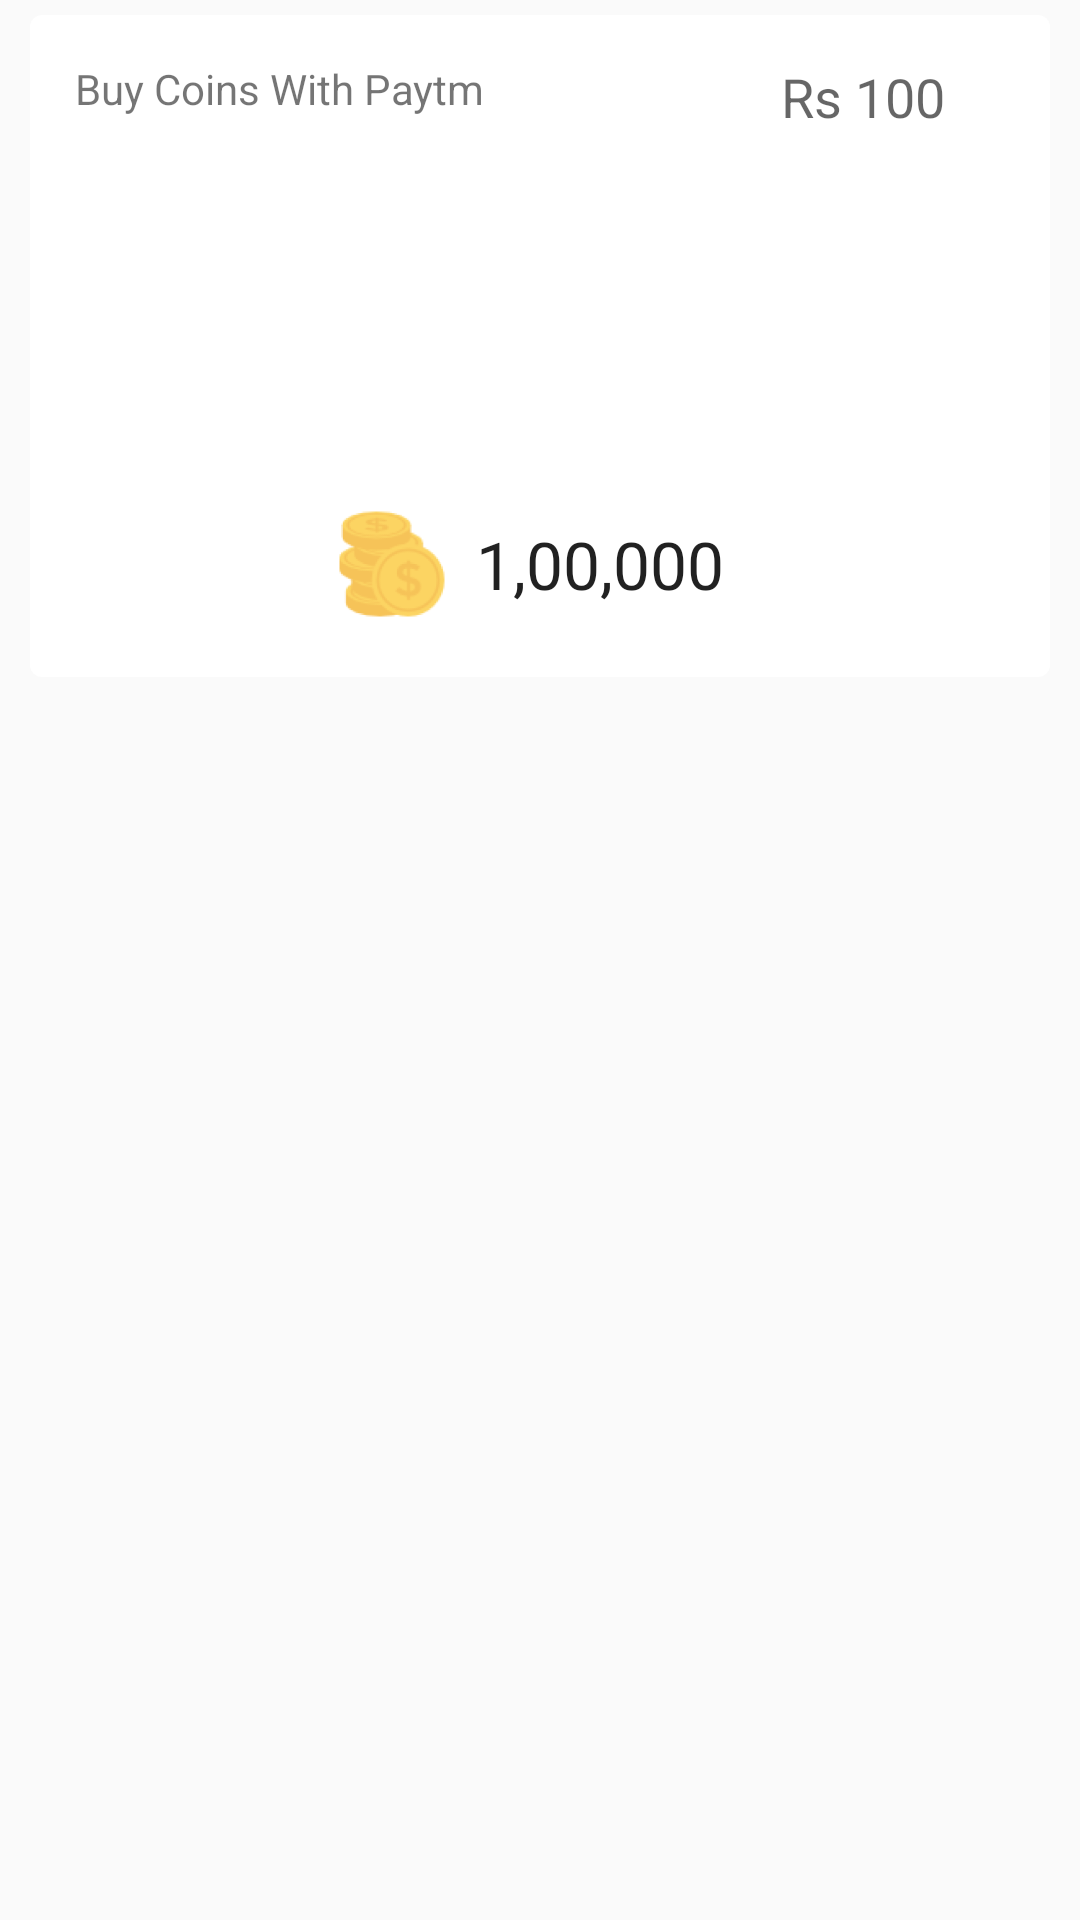

Icons on this 1080px x 1920px Android screen, each with the point to tap as [x,y]:
coines: [392,564]
